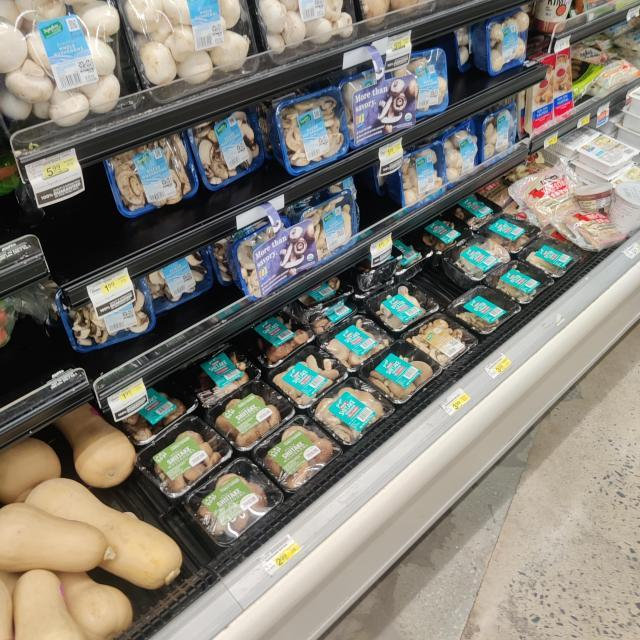Mushrooms: (0, 0, 148, 147), (117, 0, 259, 97), (184, 459, 290, 546), (133, 415, 231, 499), (103, 130, 203, 210), (252, 411, 347, 491), (205, 381, 301, 451), (306, 377, 399, 445), (280, 88, 354, 172), (254, 0, 364, 56), (190, 109, 264, 189), (356, 339, 444, 405), (123, 379, 199, 453), (268, 344, 349, 406), (181, 348, 261, 410), (294, 189, 359, 263), (316, 315, 398, 373), (76, 282, 150, 344), (385, 49, 451, 115), (365, 281, 441, 333), (400, 314, 475, 366), (245, 311, 315, 363), (394, 144, 448, 208), (441, 234, 511, 280), (482, 11, 536, 67), (440, 120, 478, 184), (481, 104, 519, 165)
